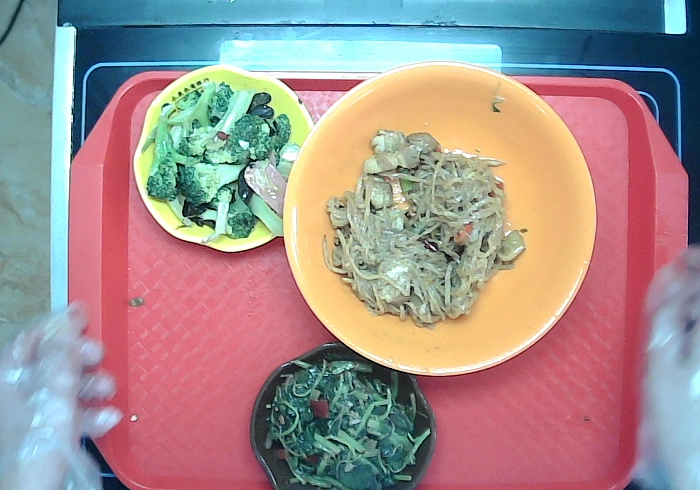YKMZ-Huang_Se_Ao_Bian_Wan: (130, 63, 311, 254)
YKMZ-Ju_Se_Tang_Wan: (281, 57, 598, 377)
YKMZ-Ka_Fei_Ao_Bian_Wan: (247, 346, 438, 490)
